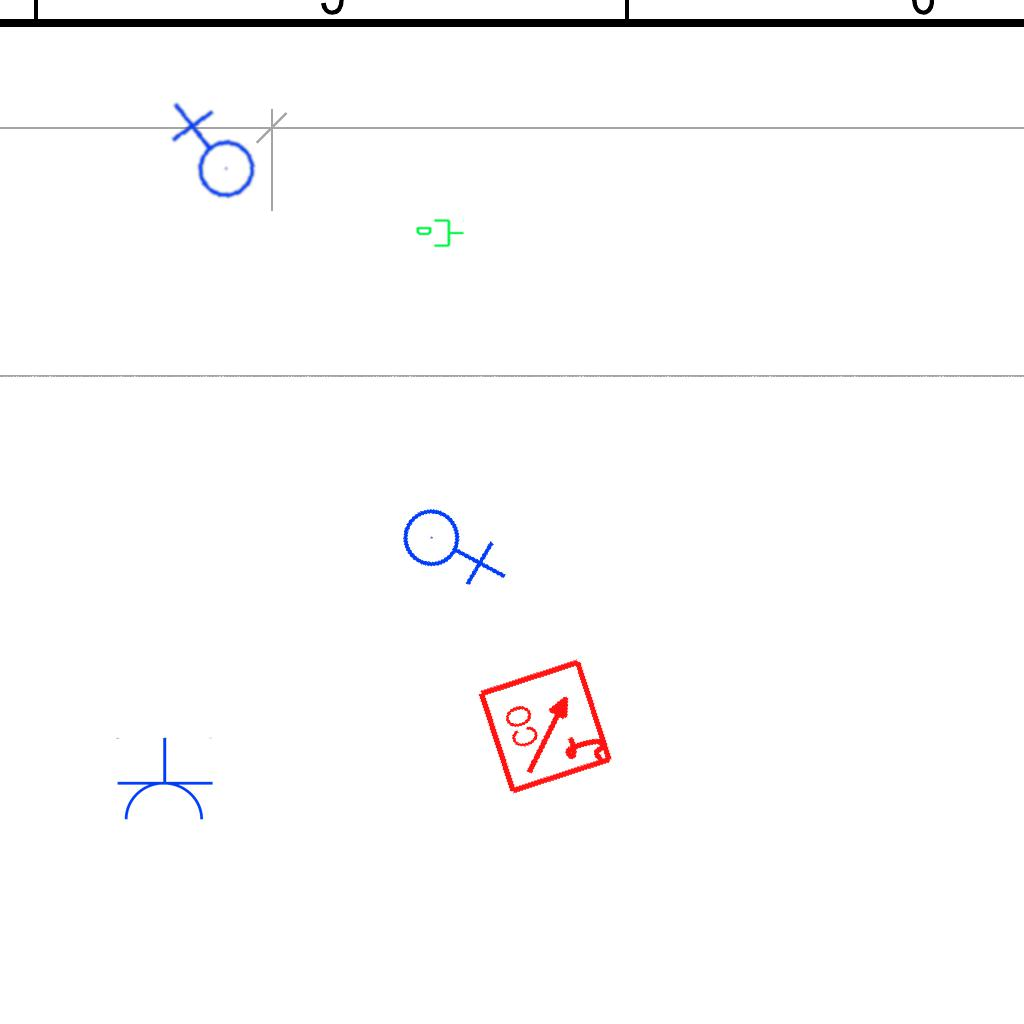Datenanschluss_einfach: (415, 217, 465, 251)
Elektroanschluss_allgemein_230V_Geraeteanschlussdose_230V: (391, 482, 512, 606), (158, 100, 263, 210)
ROA_Rauchmelder_optisch_mit_Signalgeber_(Sockelsirene): (475, 654, 618, 797)
Schukosteckdose_einfach: (114, 737, 214, 824)
